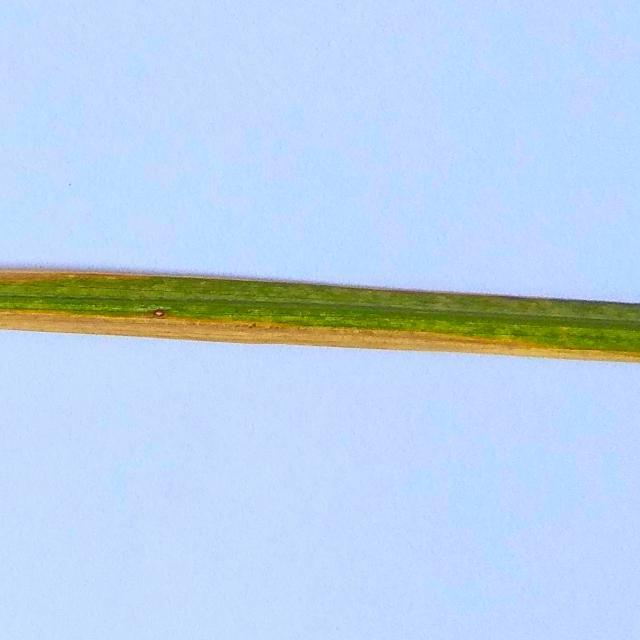Blast: (144, 304, 178, 323)
